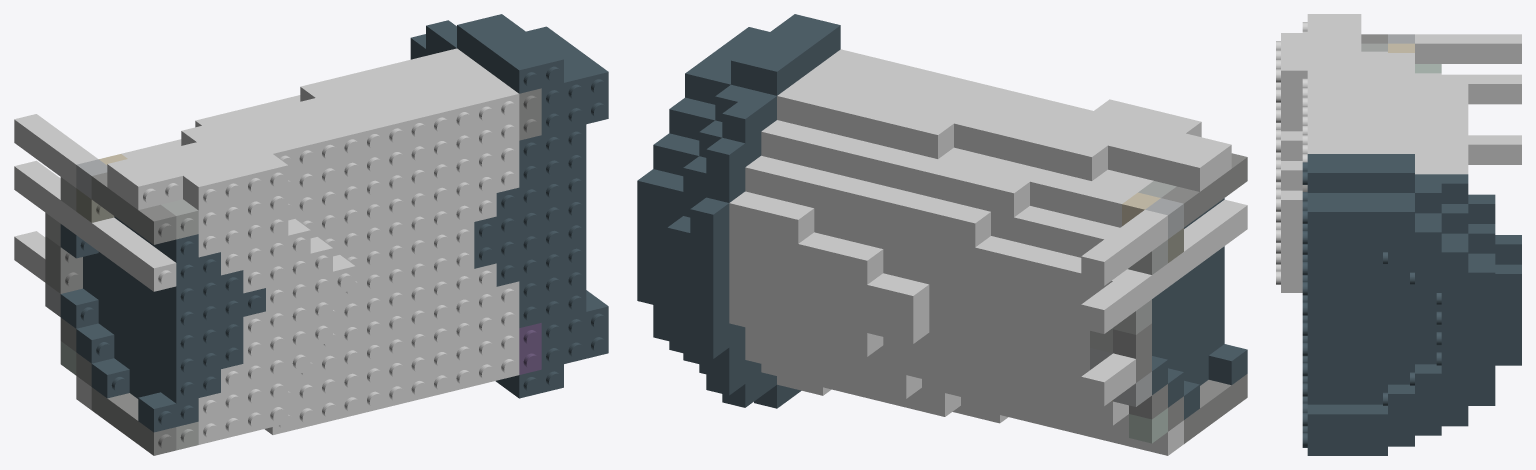
File: full.glb
3 views of the same model, side by side, from view 1: azimuth 30°, elevation 25°; view 2: azimuth 150°, elevation 25°; view 3: azimuth 270°, elevation 25° (orthographic). The views are drawn at different scales.
Visible parts, largest first — view 1: world; view 2: world; view 3: world.
Part boxes in pixels (<box>): world: <box>14,14,608,455</box>; world: <box>637,14,1247,455</box>; world: <box>1276,14,1521,455</box>.
Bounding box in the file's own units: 168 × 112 × 88.2.
